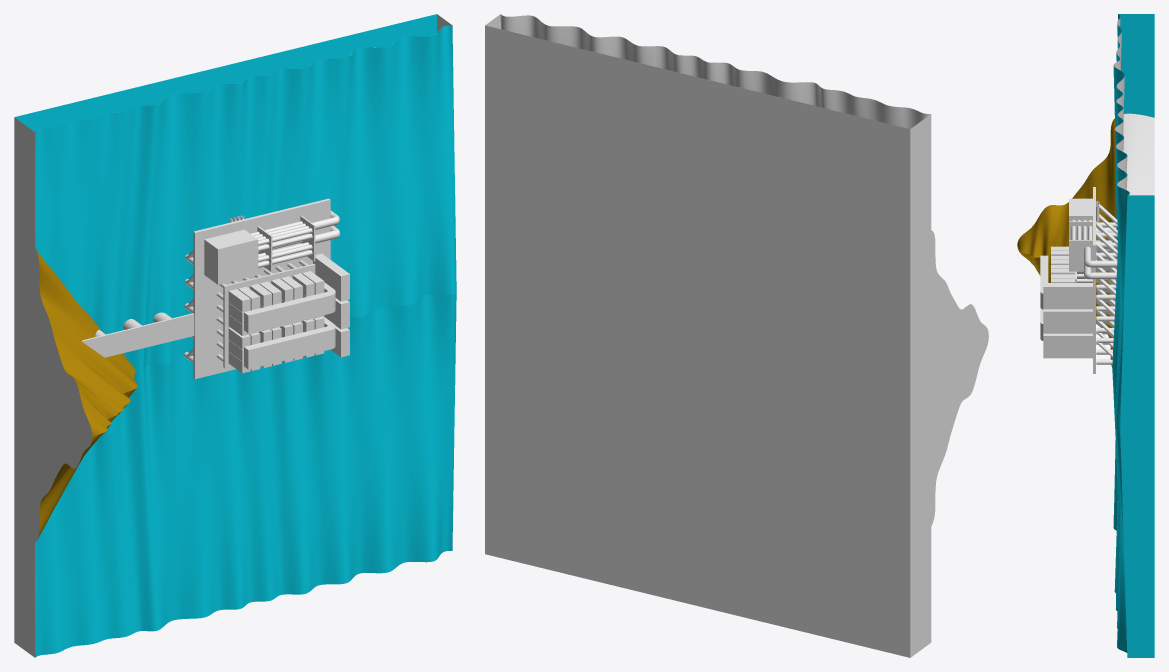
The model's file is data-center.glb.
3 renders of one model, left to right at view 1: azimuth 30°, elevation 25°; view 2: azimuth 150°, elevation 25°; view 3: azimuth 270°, elevation 25°, orthographic. The views are drawn at different scales.
Visible parts, largest first — view 1: Data center CAD; view 2: Data center CAD; view 3: Data center CAD.
Part boxes in pixels (bbox=[...]): Data center CAD: bbox=[14, 14, 456, 657]; Data center CAD: bbox=[485, 14, 988, 657]; Data center CAD: bbox=[1017, 14, 1154, 657].
Bounding box in the file's own units: 26.93 × 32 × 8.62.
